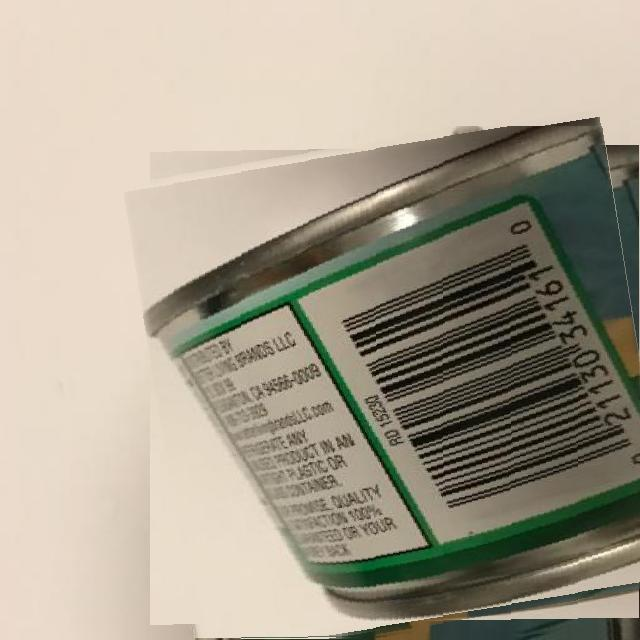recyclable: (139, 126, 640, 640)
